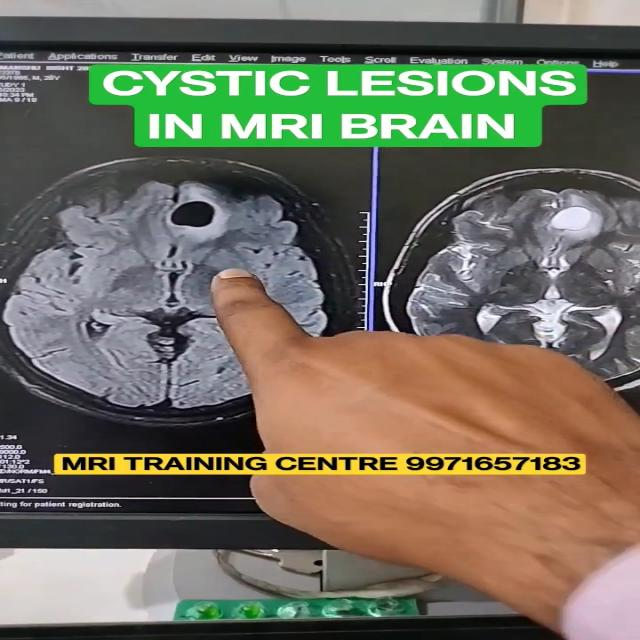tumor: (152, 189, 281, 260), (520, 197, 640, 258)
